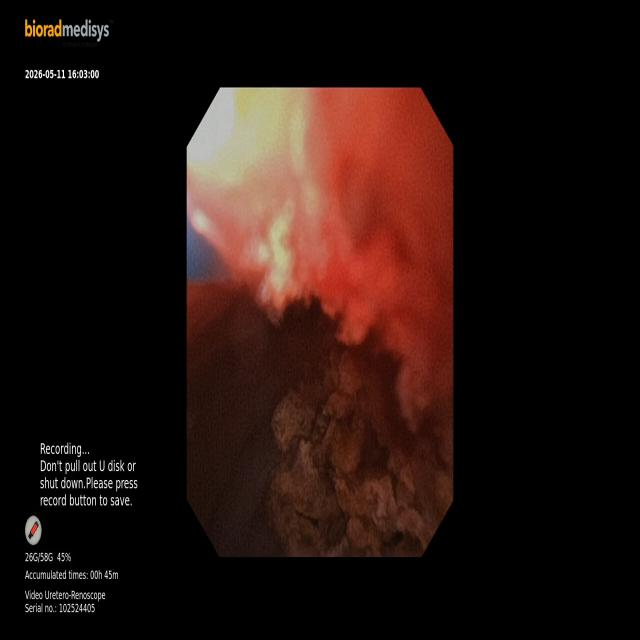stone-new: (269, 332, 452, 556)
